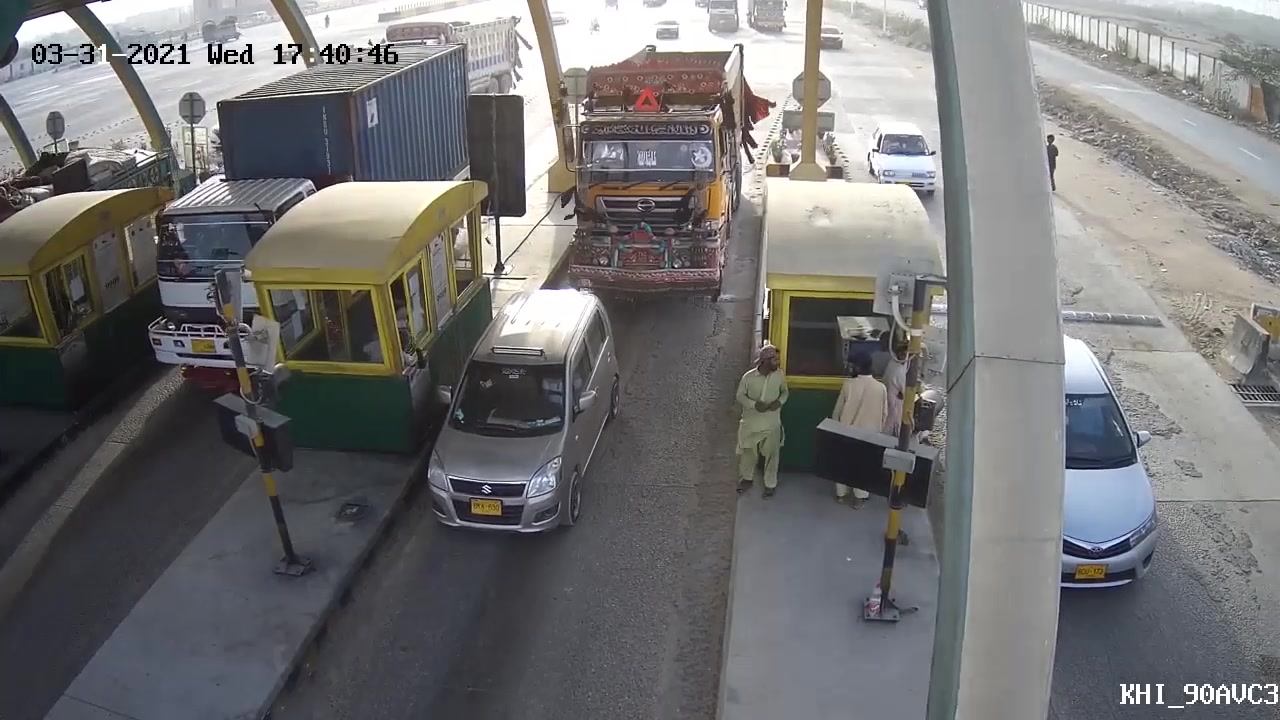F1: (420, 292, 622, 549)
F5: (562, 38, 758, 310)
